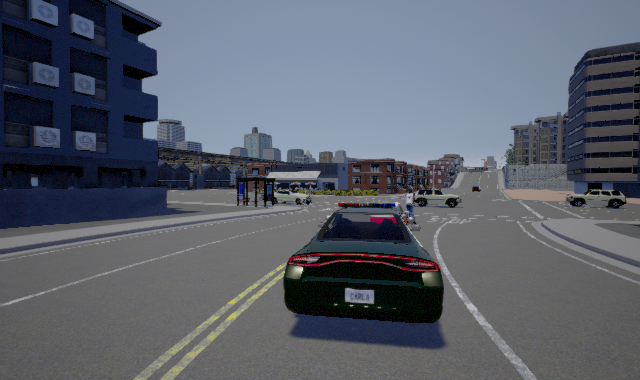bike: (403, 190, 421, 230)
vehicle: (283, 201, 444, 323), (566, 189, 627, 209), (413, 188, 462, 208), (274, 190, 312, 205)
